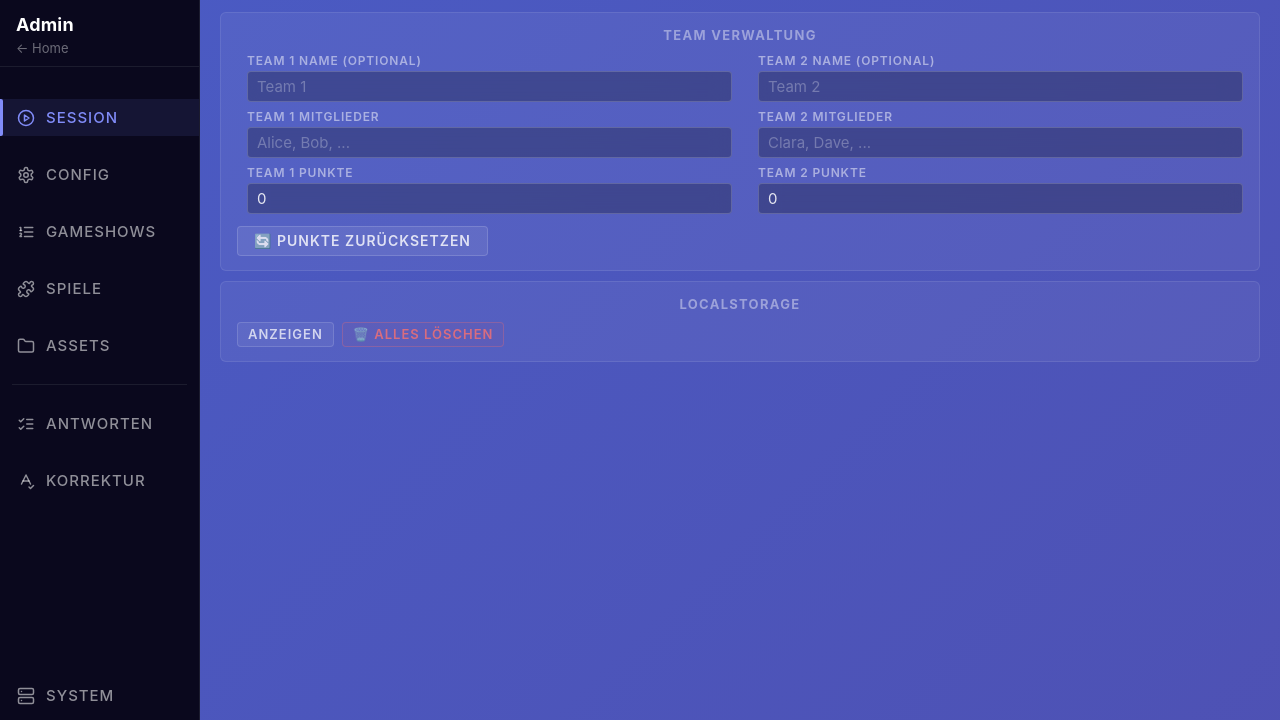
Test: AdminScreen › clears all localStorage when Alles löschen is clicked
What coordinates should you click on to do the following:
click the button "🗑️ Alles löschen"
I would click on:
 (423, 334)
Its box is 342,322 -> 504,347.
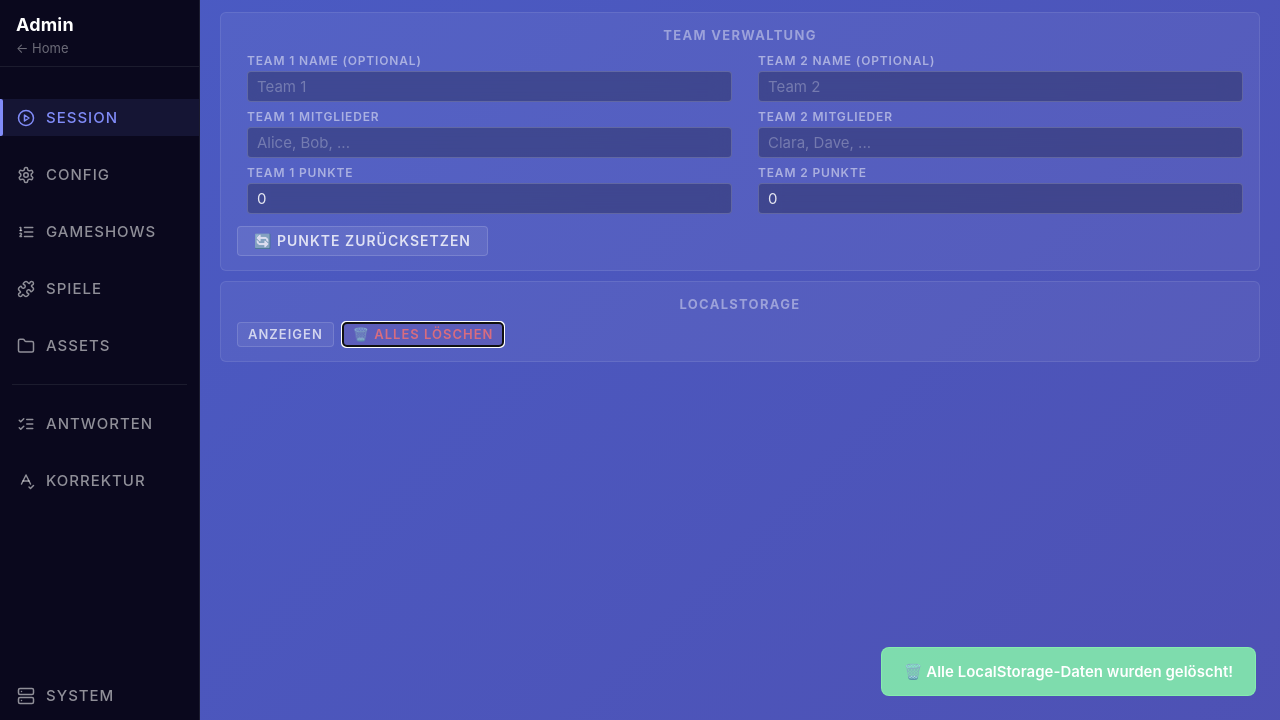
Result: the text "🗑️ Alle LocalStorage-Daten wurden gelöscht!" is shown at 904,662 -> 1233,681
